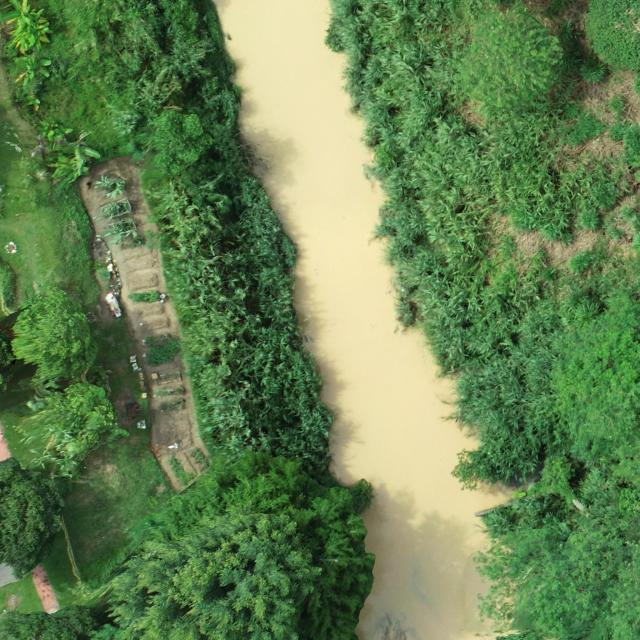Tree: (93, 451, 374, 640), (454, 0, 571, 112), (10, 287, 97, 381), (0, 457, 62, 580), (48, 385, 118, 463), (583, 0, 639, 68)
